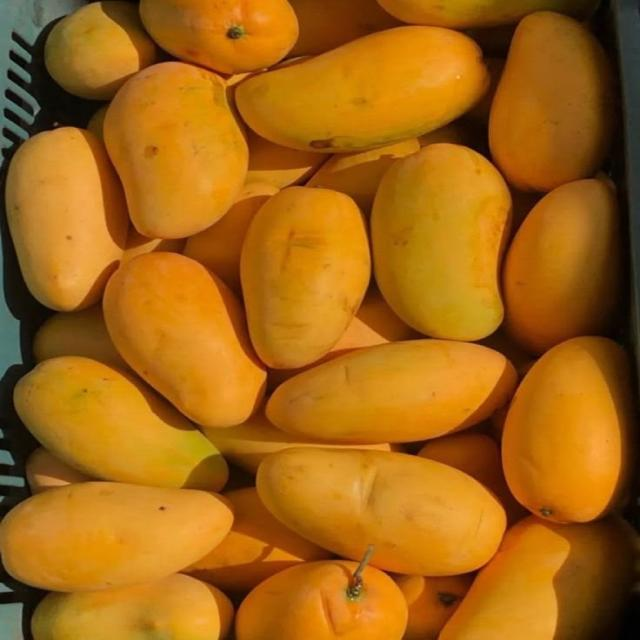mango: (257, 448, 506, 575), (236, 27, 488, 152), (14, 357, 227, 490), (104, 253, 266, 427), (371, 144, 511, 340), (267, 340, 516, 443), (0, 482, 233, 591), (104, 62, 247, 238), (502, 337, 635, 523), (439, 517, 635, 639), (240, 187, 370, 368), (489, 12, 615, 191), (6, 127, 128, 310), (504, 179, 622, 354), (268, 288, 419, 391), (184, 487, 332, 591), (235, 560, 406, 639), (32, 574, 233, 639), (205, 412, 396, 474), (140, 0, 298, 73), (45, 0, 157, 100), (183, 183, 278, 295), (418, 432, 528, 523), (307, 138, 419, 215), (379, 0, 598, 29), (289, 0, 400, 57), (33, 304, 127, 368), (396, 574, 473, 639), (246, 130, 327, 189), (26, 447, 94, 494), (466, 58, 506, 131), (122, 227, 186, 262), (418, 121, 469, 147), (87, 103, 108, 141)
